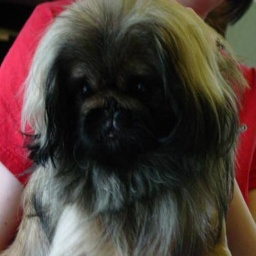dog: (18, 2, 237, 256)
